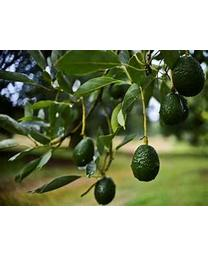avocado: (172, 55, 206, 98), (130, 143, 161, 183), (160, 94, 190, 128), (71, 137, 96, 168), (93, 176, 117, 205)
